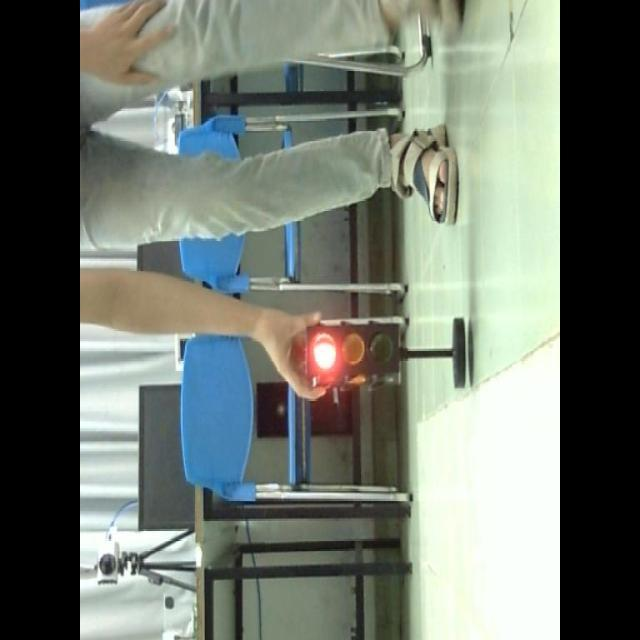red light: (311, 329, 337, 372)
